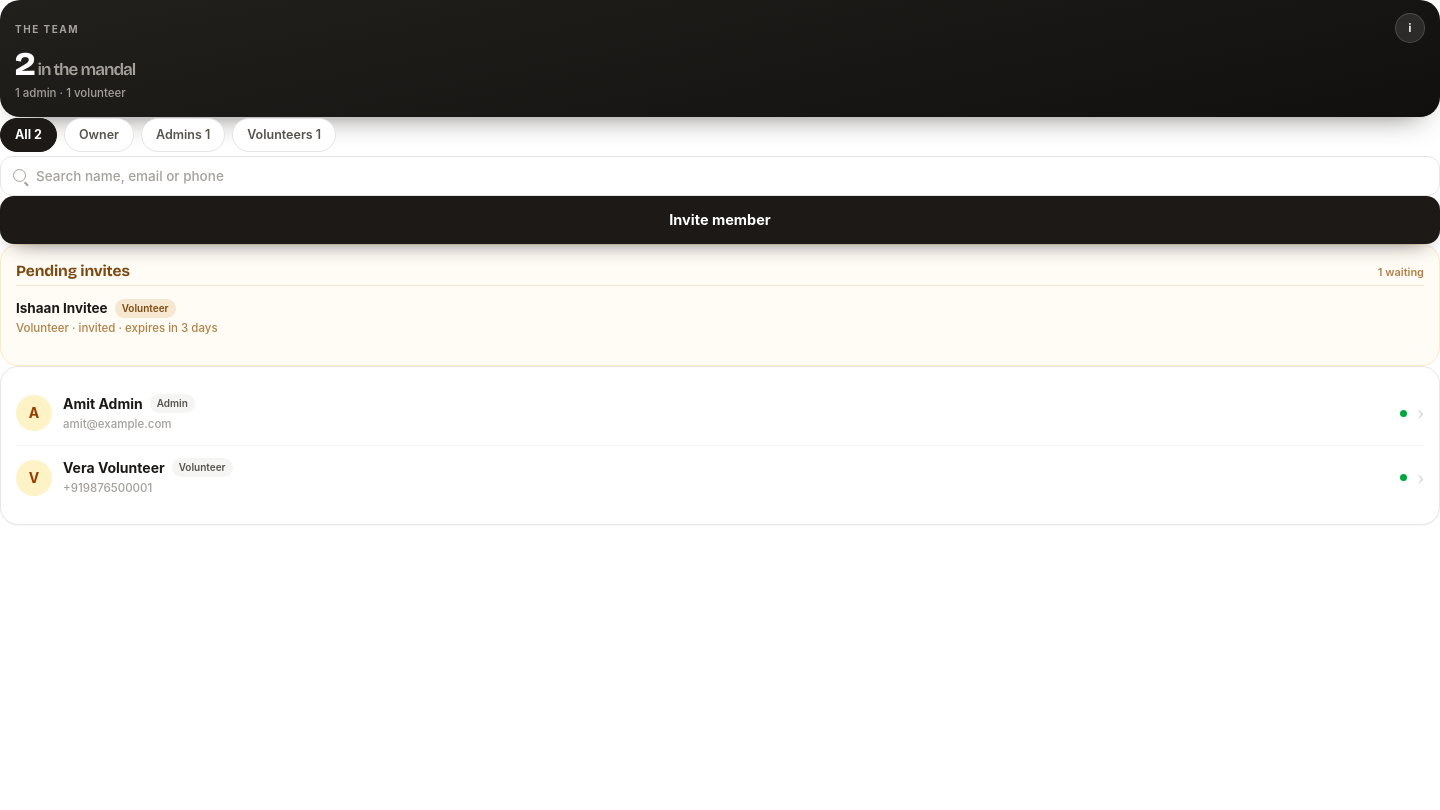
Test: ManageMembersContent — the Members tab › hides the Admin role option in the invite sheet for a plain admin
The width and height of the screenshot is (1440, 810).
expect the text "Amit Admin" is shown: met, box x1=63 y1=394 x2=143 y2=414
Click the button "Invite member": (720, 220) x1=0 y1=196 x2=1439 y2=244
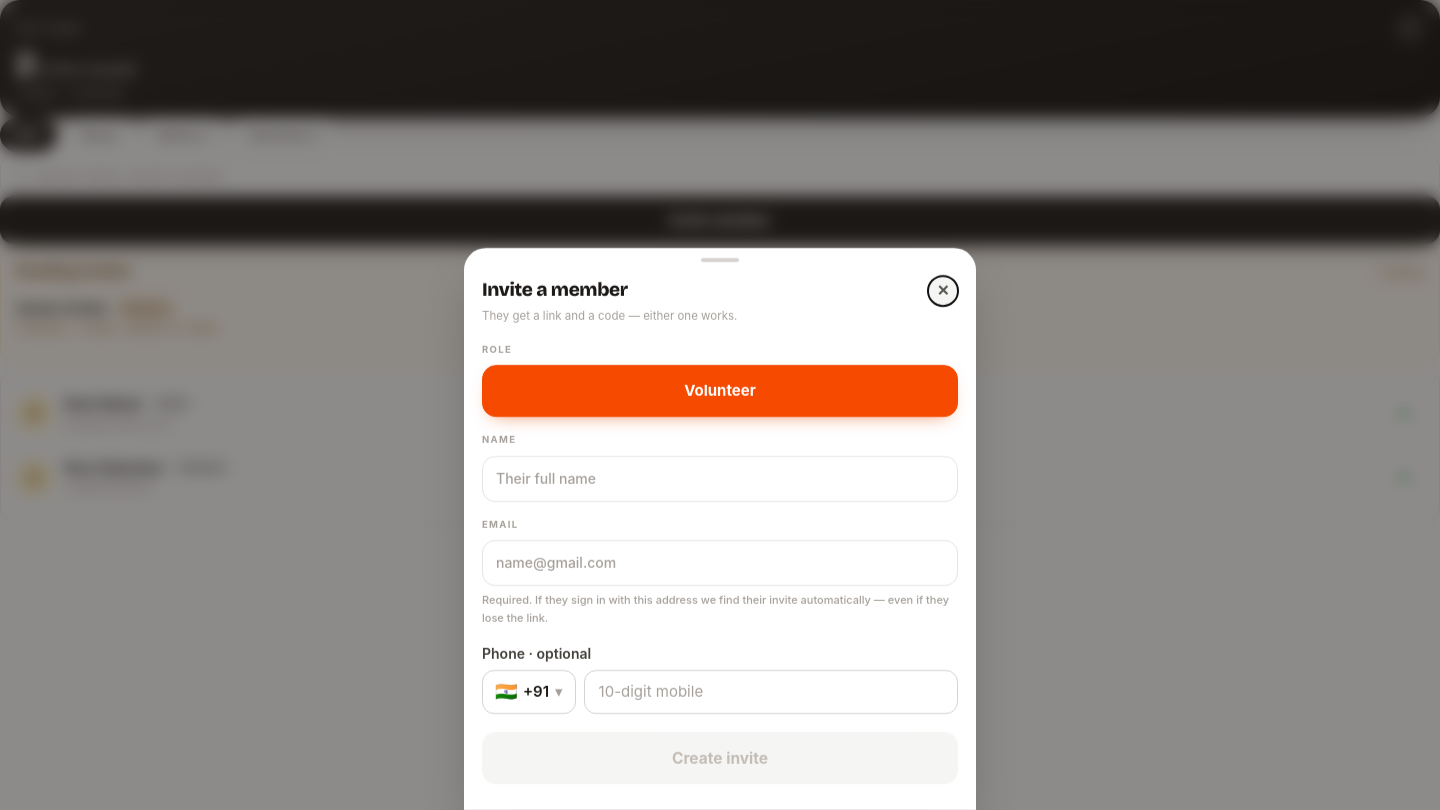
expect the button "Volunteer" is shown: met, box x1=482 y1=365 x2=958 y2=417
